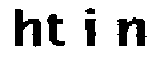h: (8, 6, 44, 50)
i: (78, 6, 103, 50)
n: (114, 18, 148, 51)
t: (47, 10, 69, 50)
